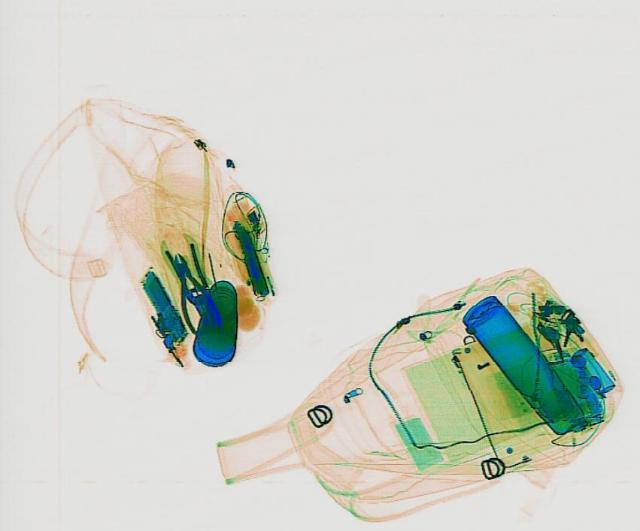Pliers: (157, 250, 225, 333), (161, 242, 217, 309)
